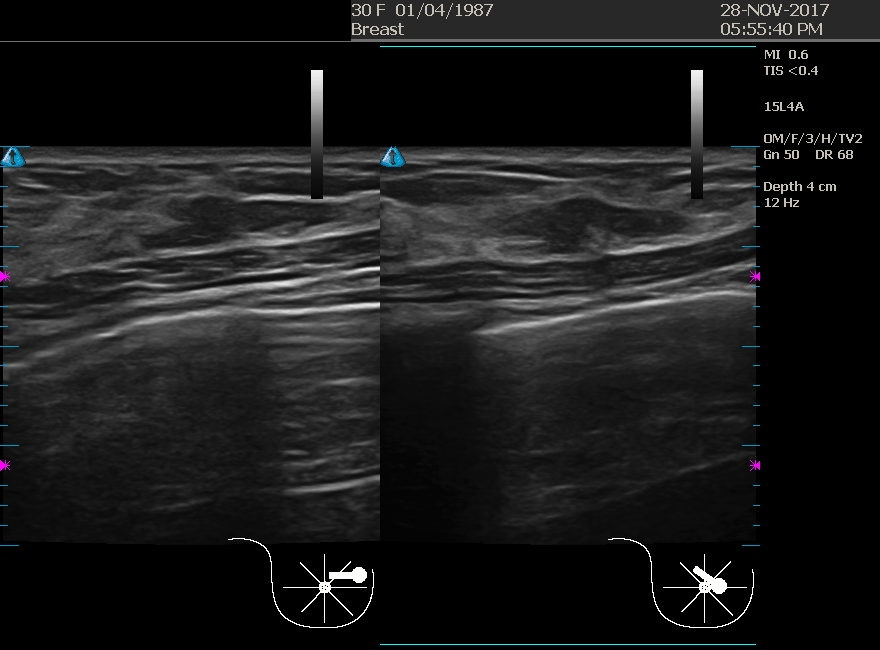BIRADS_4: (153, 199, 353, 399), (491, 153, 691, 353)
